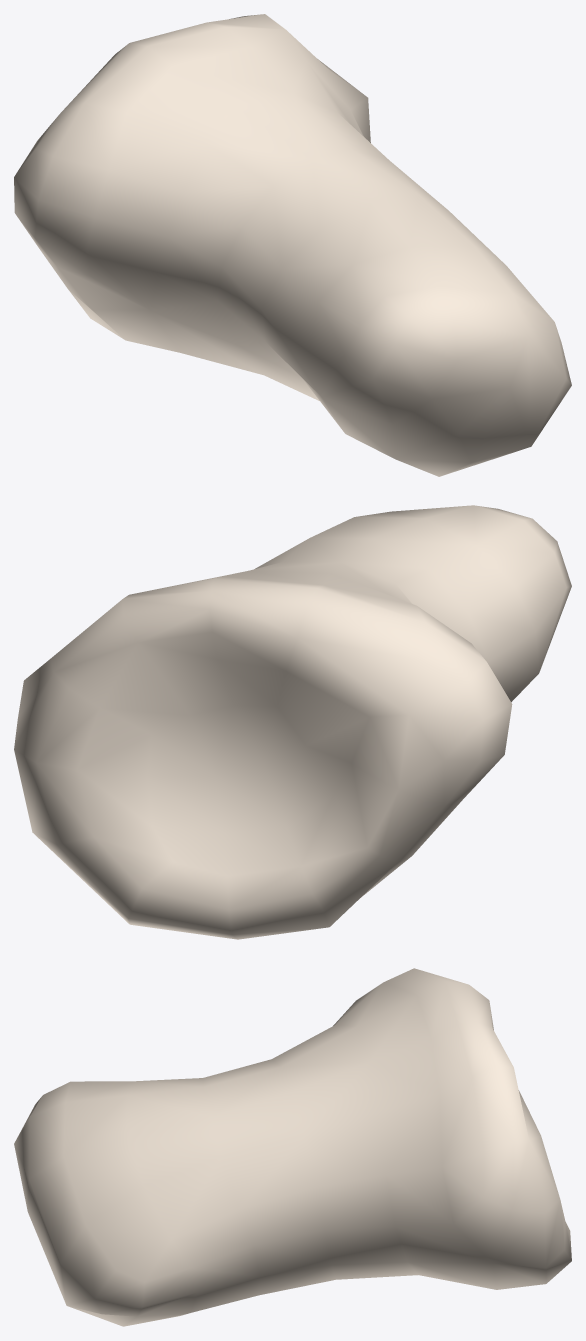
File: left_toe_5_distal.glb
3 renders of one model, top to bottom at view 1: azimuth 30°, elevation 25°; view 2: azimuth 150°, elevation 25°; view 3: azimuth 270°, elevation 25°, orthographic. The views are drawn at different scales.
Visible parts, largest first — view 1: Distal phalanx of fifth finger of foot.r; view 2: Distal phalanx of fifth finger of foot.r; view 3: Distal phalanx of fifth finger of foot.r.
Boxes of the visible parts, x1=… form: Distal phalanx of fifth finger of foot.r: x1=14, y1=14, x2=571, y2=476; Distal phalanx of fifth finger of foot.r: x1=14, y1=505, x2=571, y2=939; Distal phalanx of fifth finger of foot.r: x1=14, y1=968, x2=571, y2=1326.
Size of the model in its own units: 0.00669 by 0.00525 by 0.00952.
